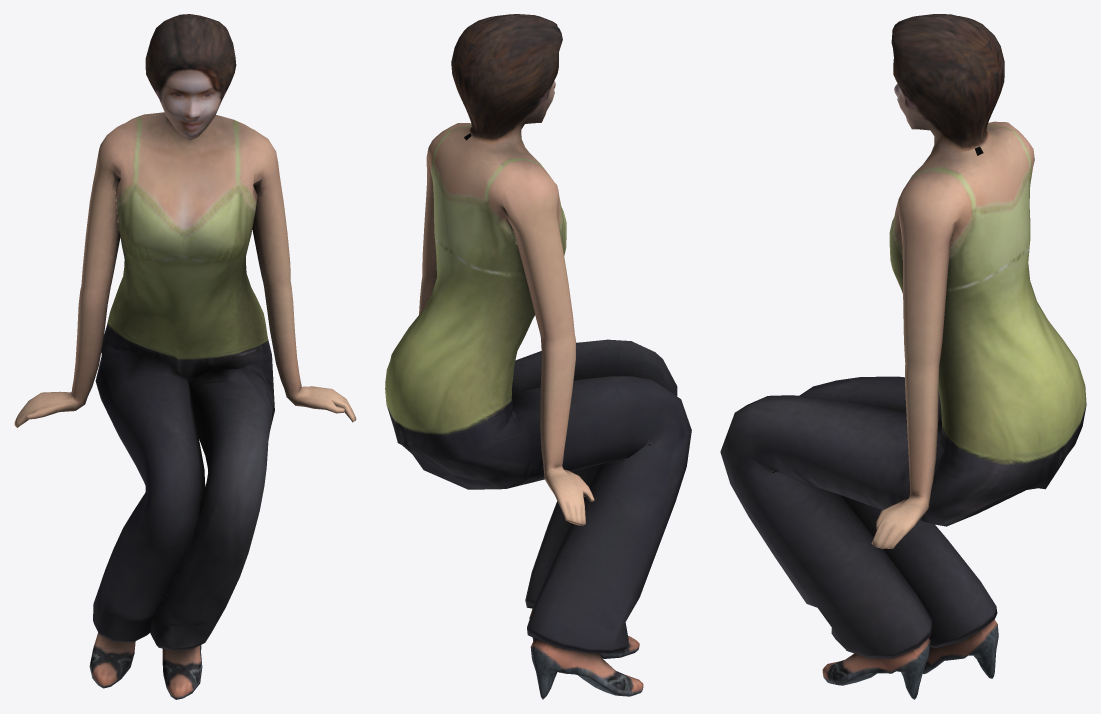
Rendered from GirlSitter3.FBX.
3 views of the same model, side by side, from view 1: azimuth 30°, elevation 25°; view 2: azimuth 150°, elevation 25°; view 3: azimuth 270°, elevation 25° (orthographic). The views are drawn at different scales.
Visible parts, largest first — view 1: SCW01_01_02; view 2: SCW01_01_02; view 3: SCW01_01_02.
Part boxes in pixels (x1,y1,x2,y2): SCW01_01_02: (14,14,356,699); SCW01_01_02: (385,14,691,699); SCW01_01_02: (720,14,1086,699).
Size of the model in its own units: 22.67 by 51.92 by 24.61.
1 material, 1 textured.
